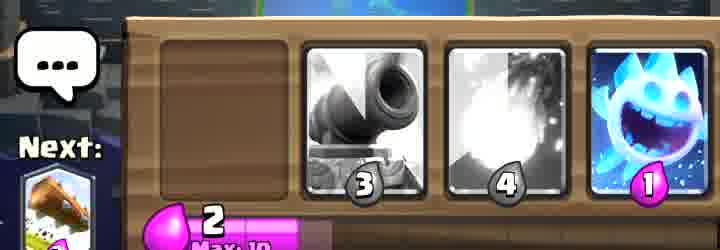cannon: (344, 53, 432, 188), (304, 55, 380, 170)
ice-spirit: (594, 45, 710, 200)
log: (24, 168, 92, 250)
